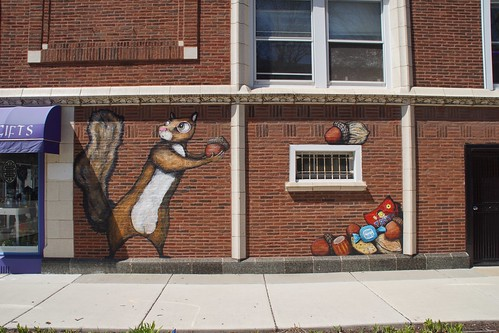building: (1, 1, 483, 257)
graffiti: (246, 102, 399, 261), (73, 115, 233, 260)
sidewalk: (9, 268, 499, 333)
